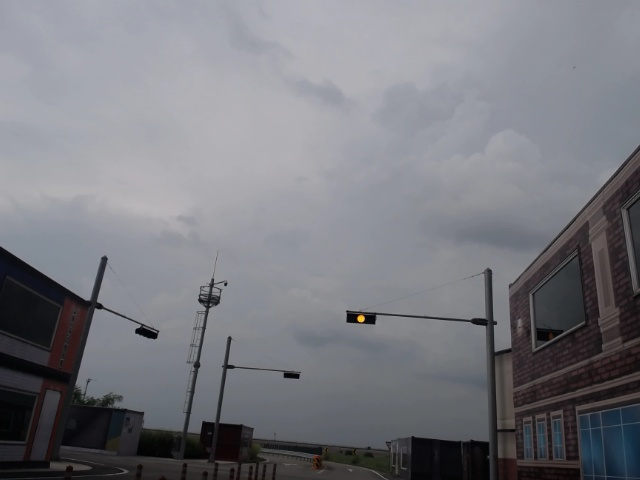orange_3: (347, 311, 377, 326)
